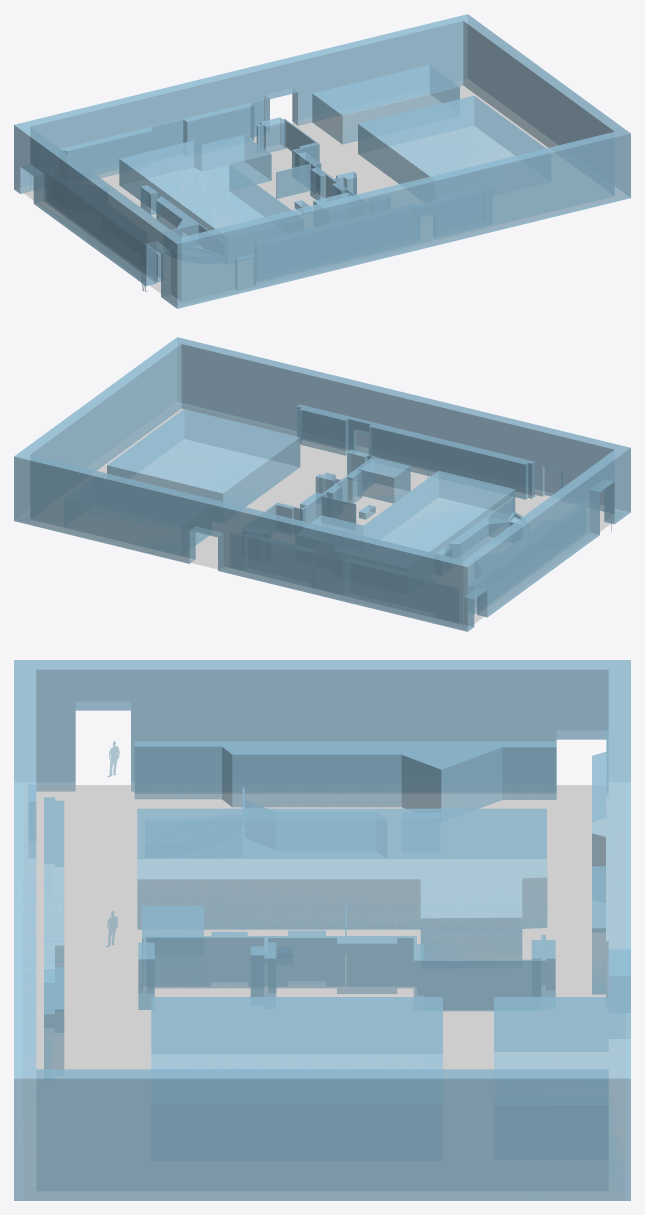
The picture shows the model from 3 angles, top to bottom: view 1: azimuth 30°, elevation 25°; view 2: azimuth 150°, elevation 25°; view 3: azimuth 270°, elevation 25°; orthographic projection. The views are drawn at different scales.
Parts seen in each view (by area): view 1: 简牍博物馆1层, 平面; view 2: 简牍博物馆1层, 平面; view 3: 简牍博物馆1层, 平面.
Part boxes in pixels (left/top/right/bottom): 简牍博物馆1层: left=14, top=14, right=630, bottom=308; 平面: left=19, top=80, right=626, bottom=305; 简牍博物馆1层: left=14, top=337, right=630, bottom=631; 平面: left=17, top=404, right=623, bottom=629; 简牍博物馆1层: left=14, top=660, right=630, bottom=1200; 平面: left=23, top=785, right=625, bottom=1199.
Size of the model in its own units: 234 by 31.18 by 143.
